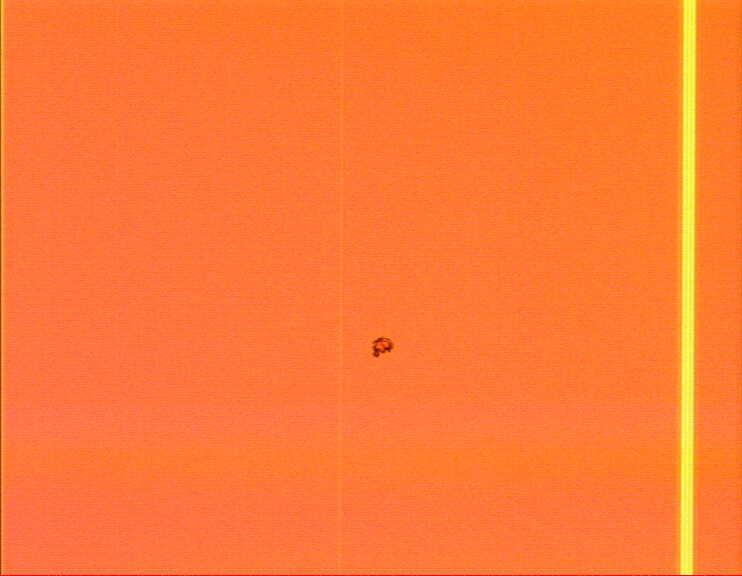PIQ PARTICLE: (364, 332, 400, 367)
